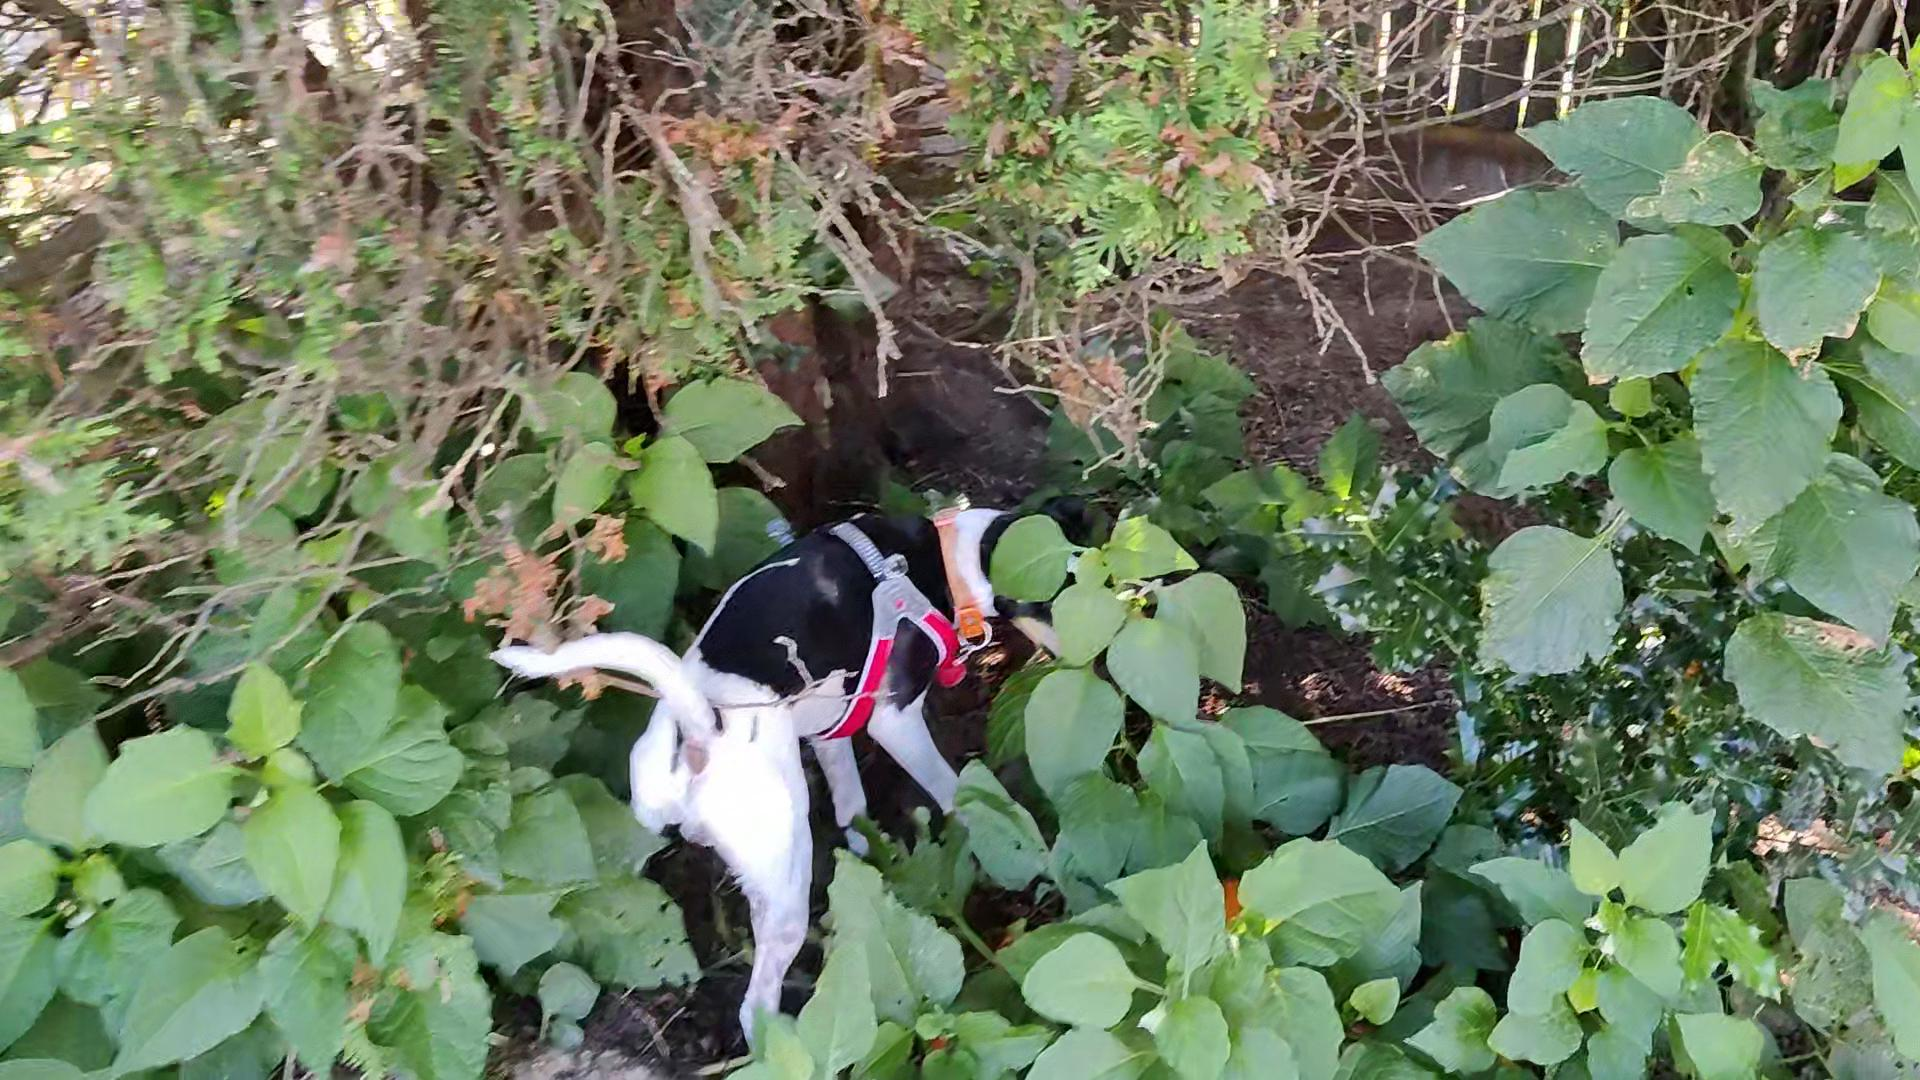Dog: (438, 444, 1182, 1058)
